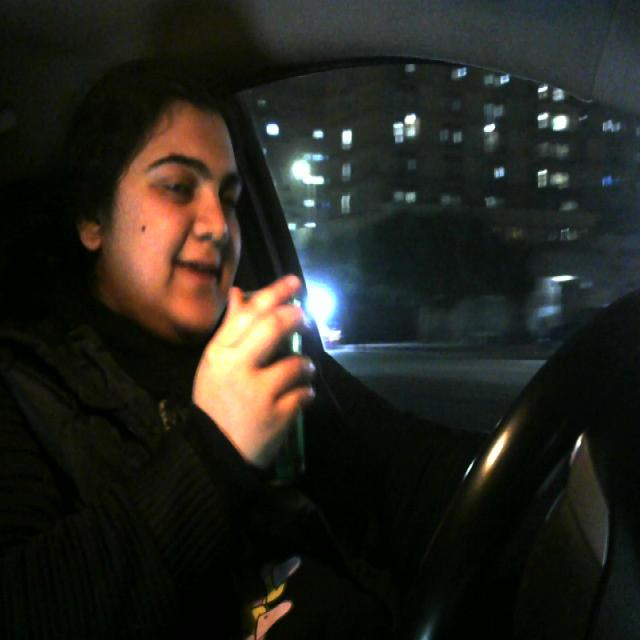drinking: (232, 292, 312, 490)
